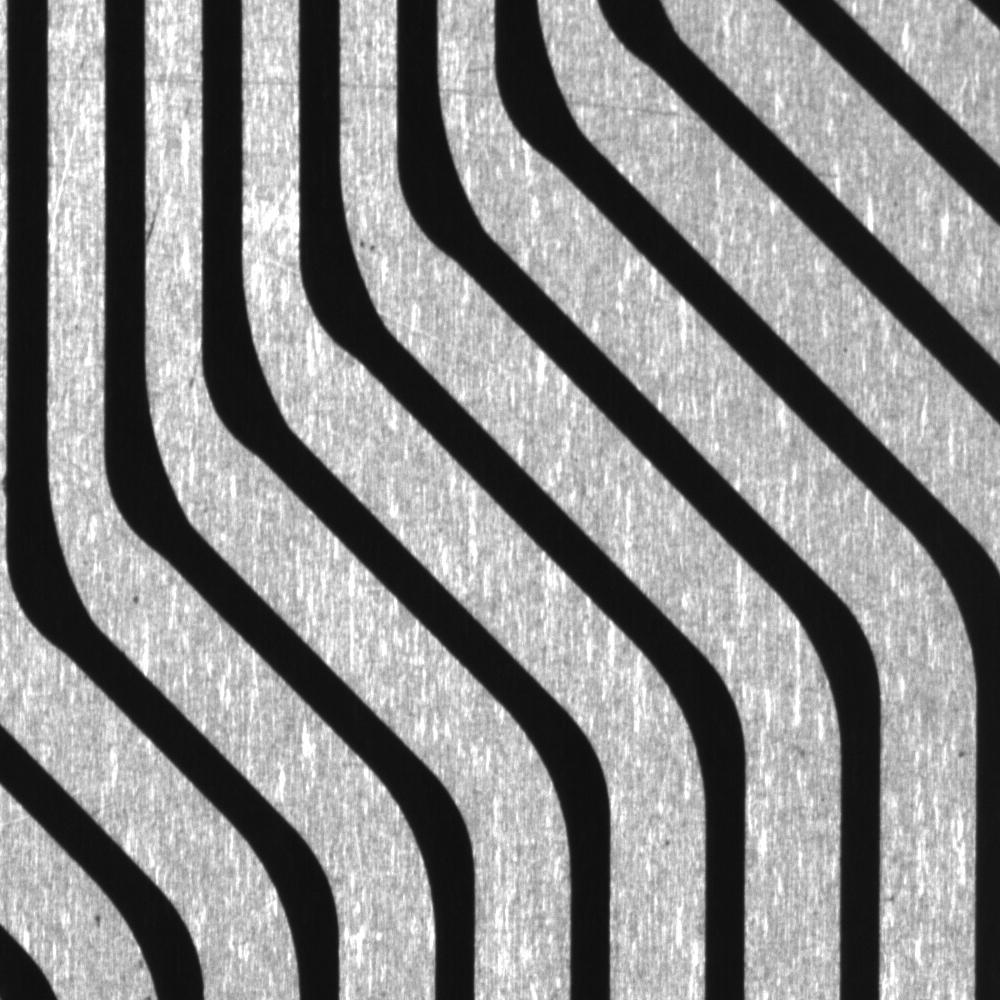Etching: (353, 233, 383, 261), (86, 905, 107, 932), (948, 741, 971, 763)
Pinhole: (123, 586, 149, 610), (662, 834, 674, 851)
Scar: (371, 303, 520, 377), (560, 79, 708, 133), (46, 107, 80, 245), (436, 70, 505, 115), (339, 59, 402, 106), (47, 54, 107, 97), (147, 170, 172, 270), (243, 60, 300, 101), (144, 60, 201, 96)
